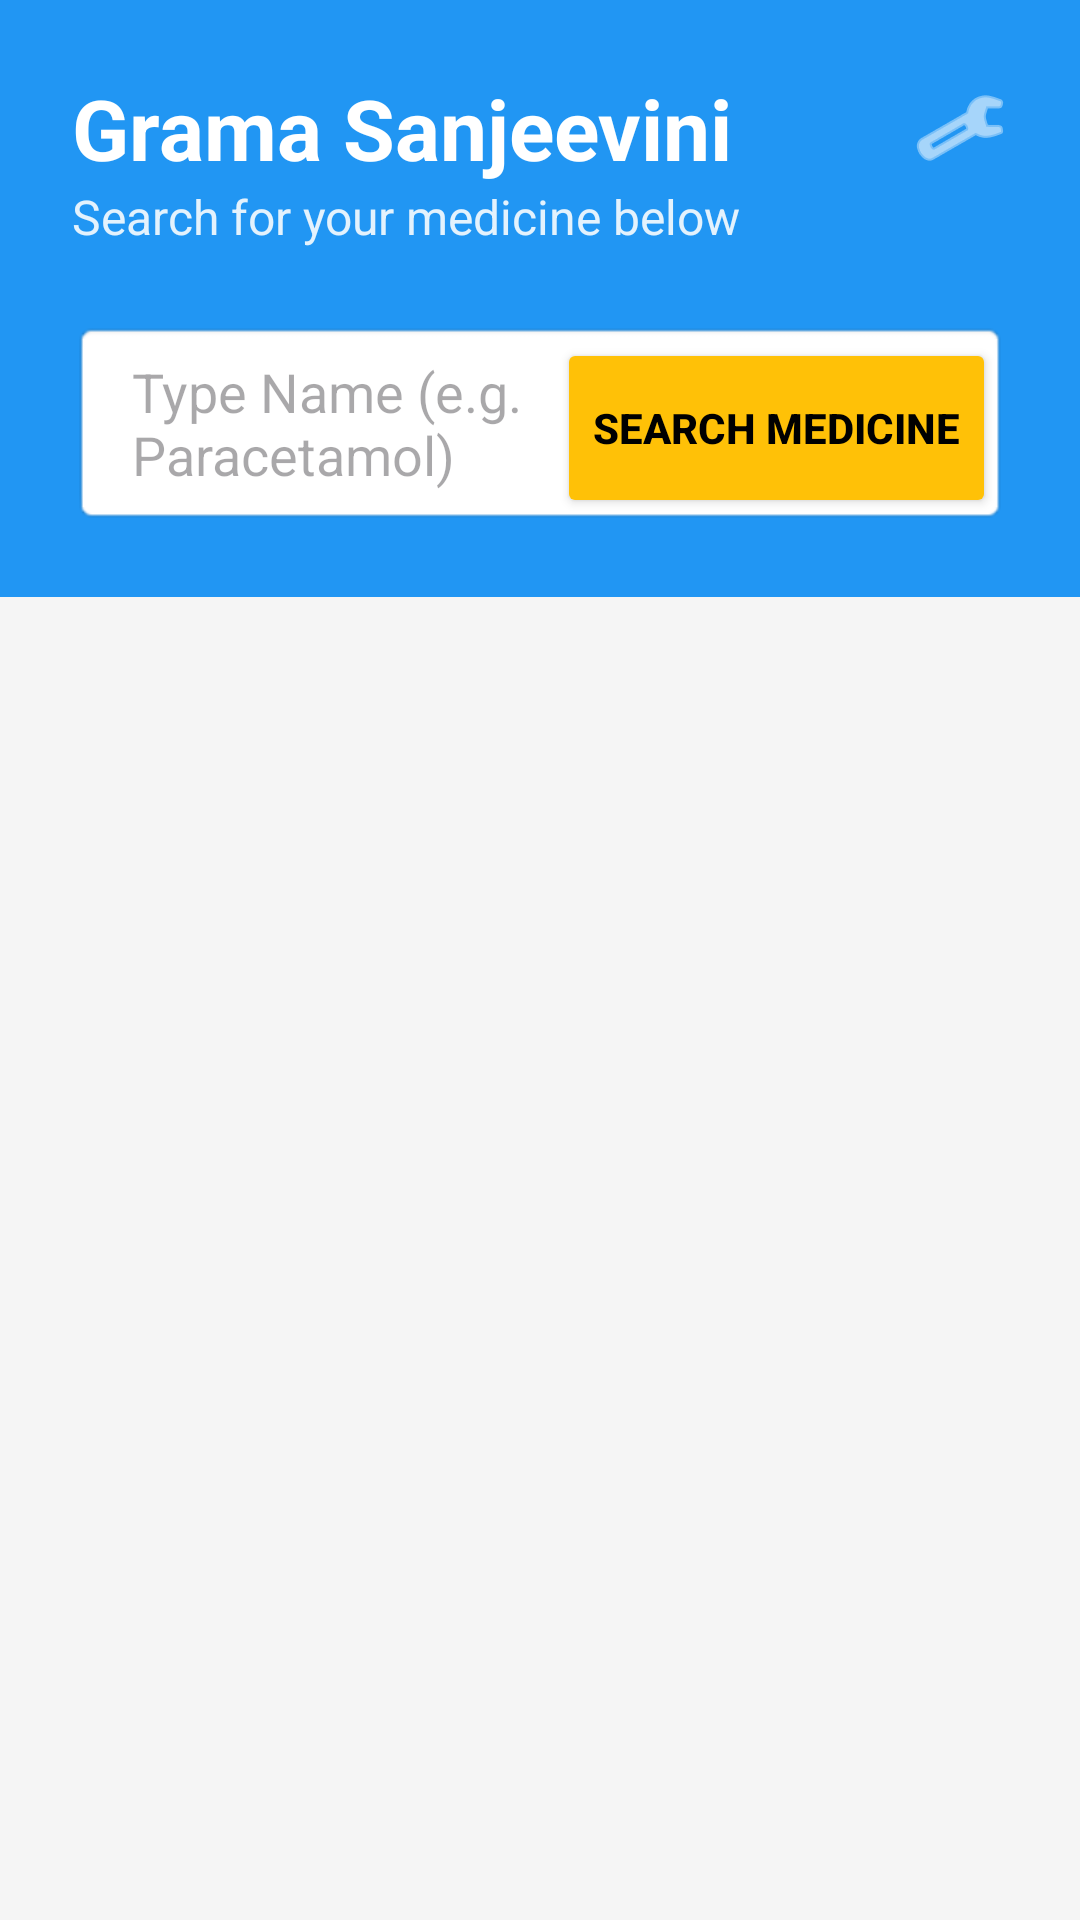

Locate icon controls on the screen. Image size 1080 × 1920, boxes as (x1=x1, y1=y1, x2=x2, y2=y2).
Settings: (x1=917, y1=95, x2=1003, y2=161)
